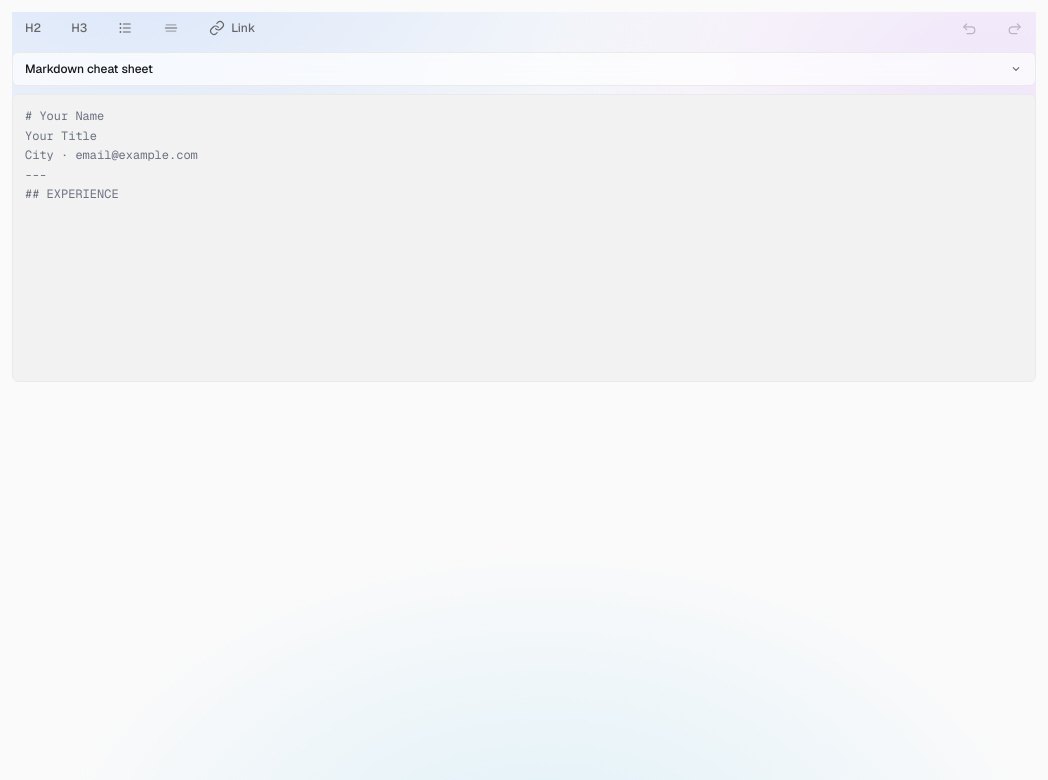
MarkdownEditor › explains the dialect instead of leaving it to be guessed
Expected: the text "Markdown cheat sheet" is shown, [25, 61, 153, 77]
Click the heading "Markdown cheat sheet" at x=89, y=69, box [25, 61, 1023, 77]
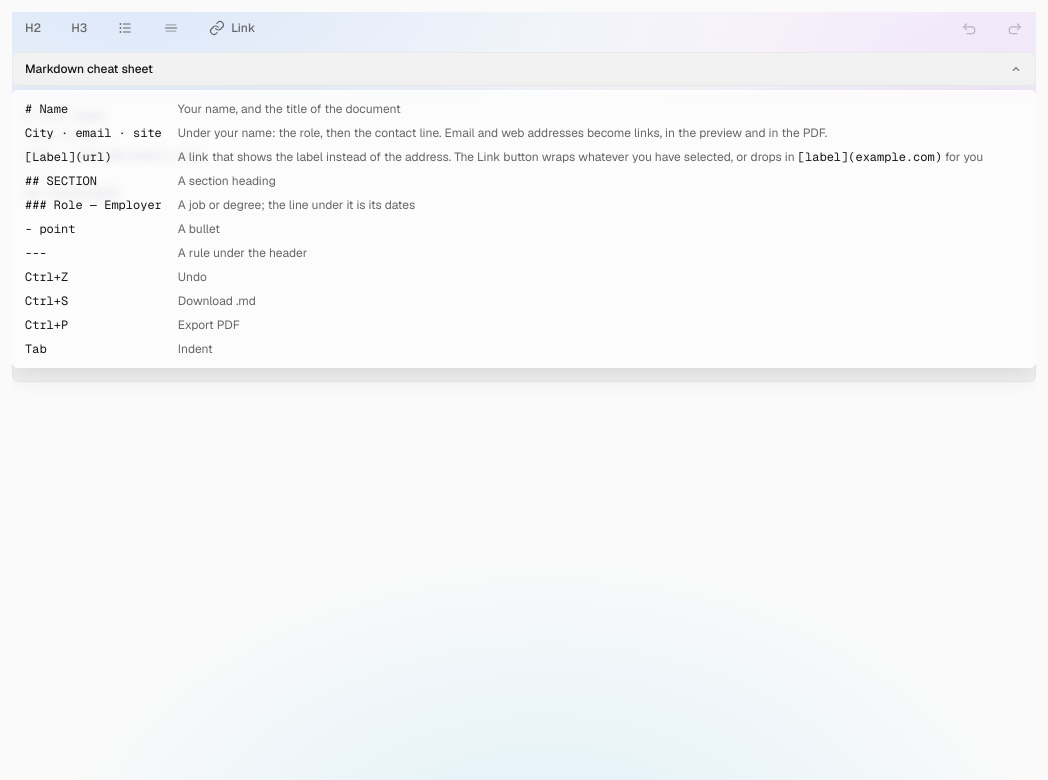
Result: the text "A job or degree; the line under it is its dates" is shown at [178, 197, 415, 213]
